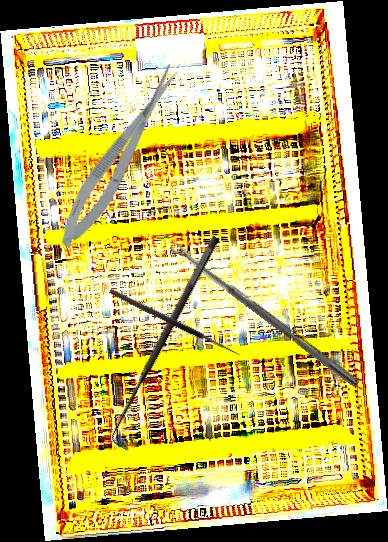Hook Surgical: (102, 234, 236, 451), (108, 281, 245, 359)
Micro Scissor: (48, 59, 193, 255)
Surgical Spoon: (169, 240, 361, 388)
